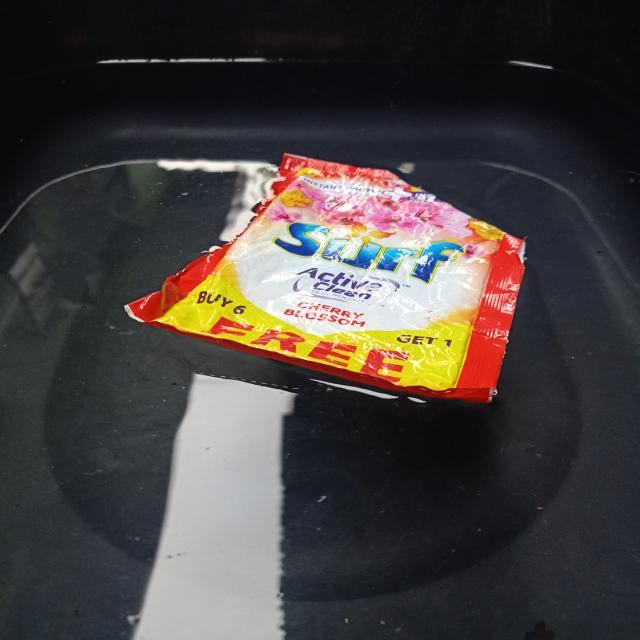Plastic Wrapper: (94, 131, 550, 421)
